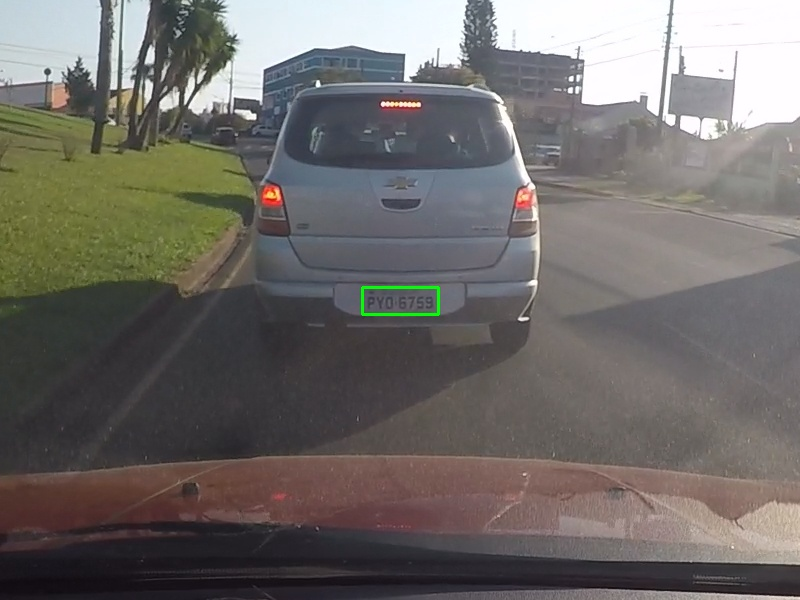placa: (362, 287, 438, 314)
